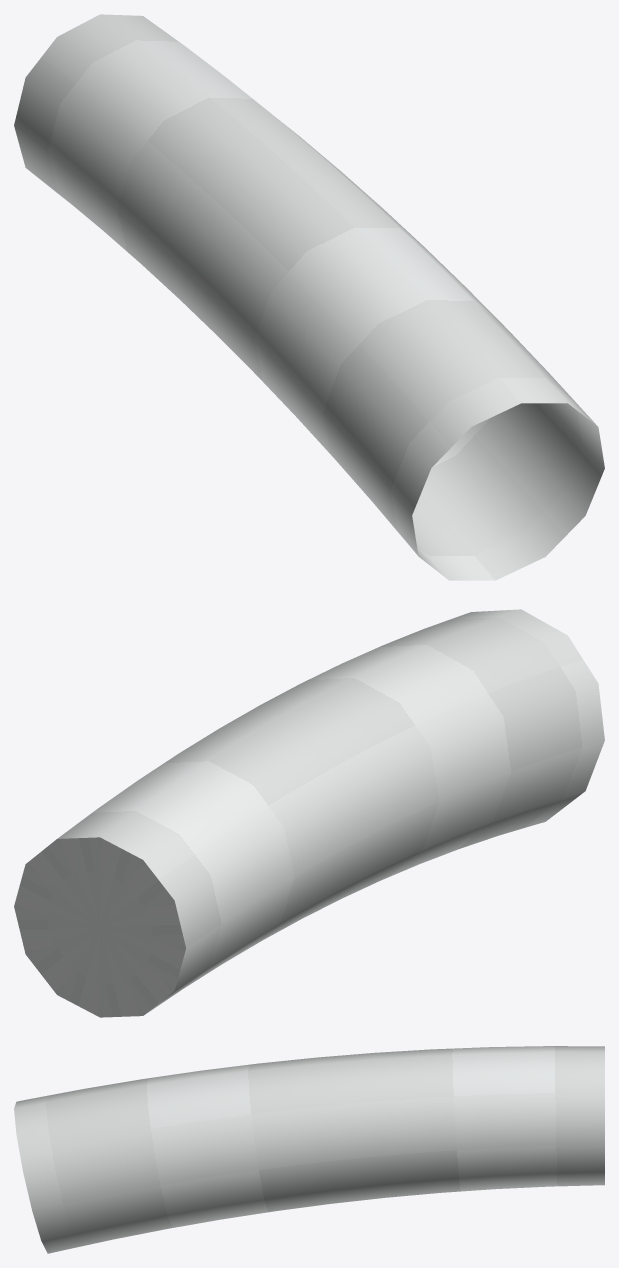
The model's file is luminairearm_laupsweep8ft_c5.obj.
The picture shows the model from 3 angles, top to bottom: view 1: azimuth 30°, elevation 25°; view 2: azimuth 150°, elevation 25°; view 3: azimuth 270°, elevation 25°; orthographic projection. The views are drawn at different scales.
Visible parts, largest first — view 1: luminairearm_laupsweep8ft_c5; view 2: luminairearm_laupsweep8ft_c5; view 3: luminairearm_laupsweep8ft_c5.
Boxes of the visible parts, x1,y1,x2,y2 form: luminairearm_laupsweep8ft_c5: [14, 14, 604, 580]; luminairearm_laupsweep8ft_c5: [14, 609, 604, 1017]; luminairearm_laupsweep8ft_c5: [14, 1046, 604, 1253].
Size of the model in its own units: 0.196 by 0.2689 by 0.7418.
